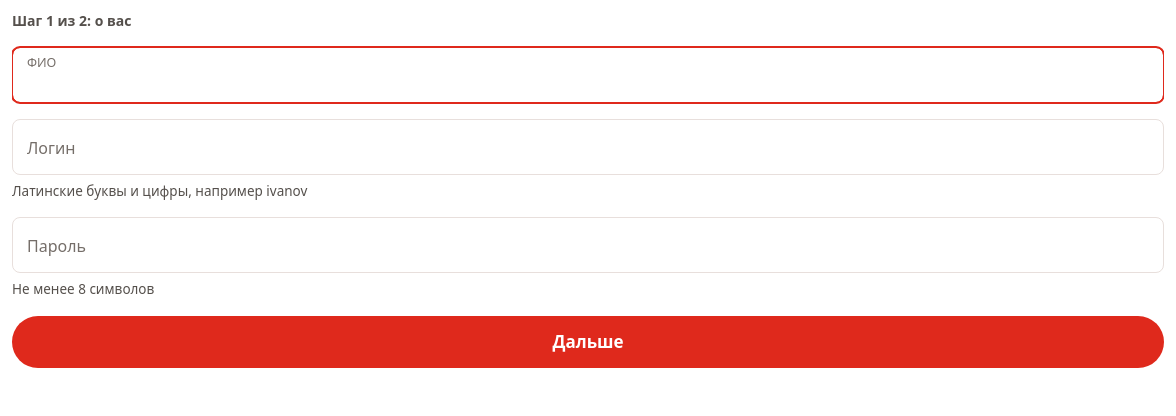
Test: Register › does not go further with an incomplete or weak first step
Step 1. Click the button "Дальше" → (588, 342), box top-left (12, 316), bottom-right (1164, 368)
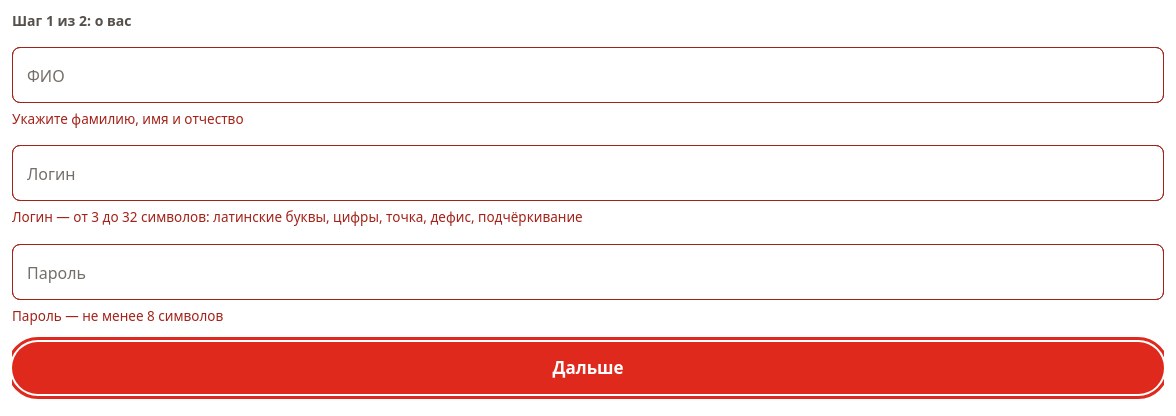
Now the text "Укажите фамилию, имя и отчество" is shown, box top-left (12, 110), bottom-right (244, 128)
Now the text "Логин — от 3 до 32 символов" is shown, box top-left (12, 208), bottom-right (583, 226)
Now the text "Пароль — не менее 8 символов" is shown, box top-left (12, 306), bottom-right (223, 324)
